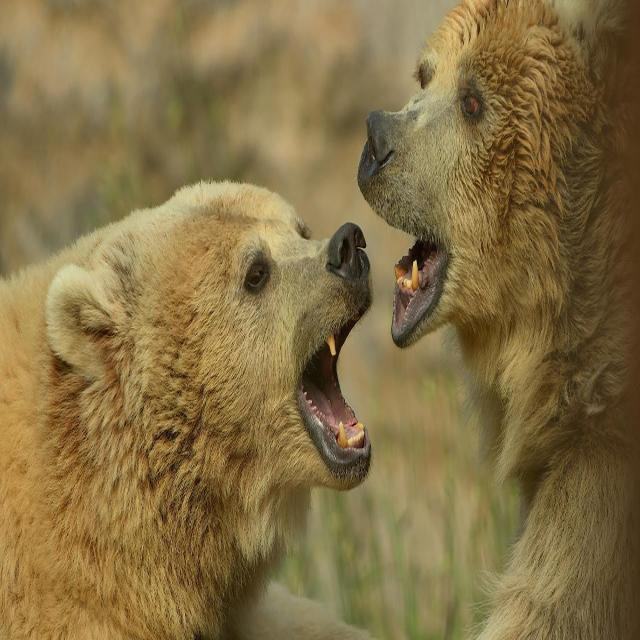Bear: (0, 181, 374, 640)
